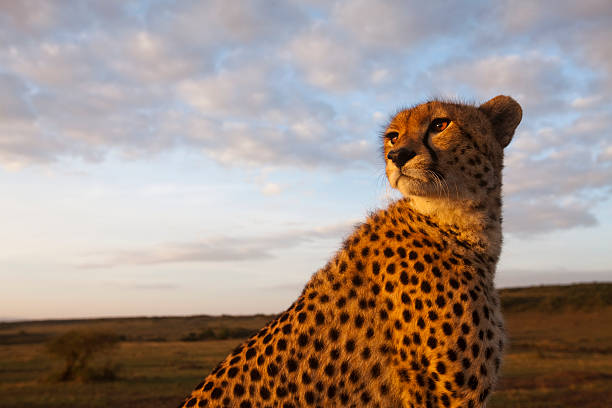cheetah: (370, 88, 537, 222)
